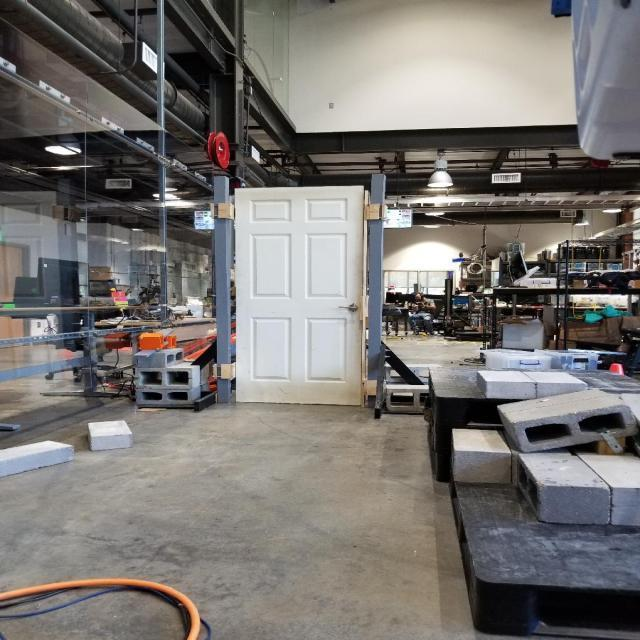door: (230, 184, 372, 410), (340, 302, 360, 314)
